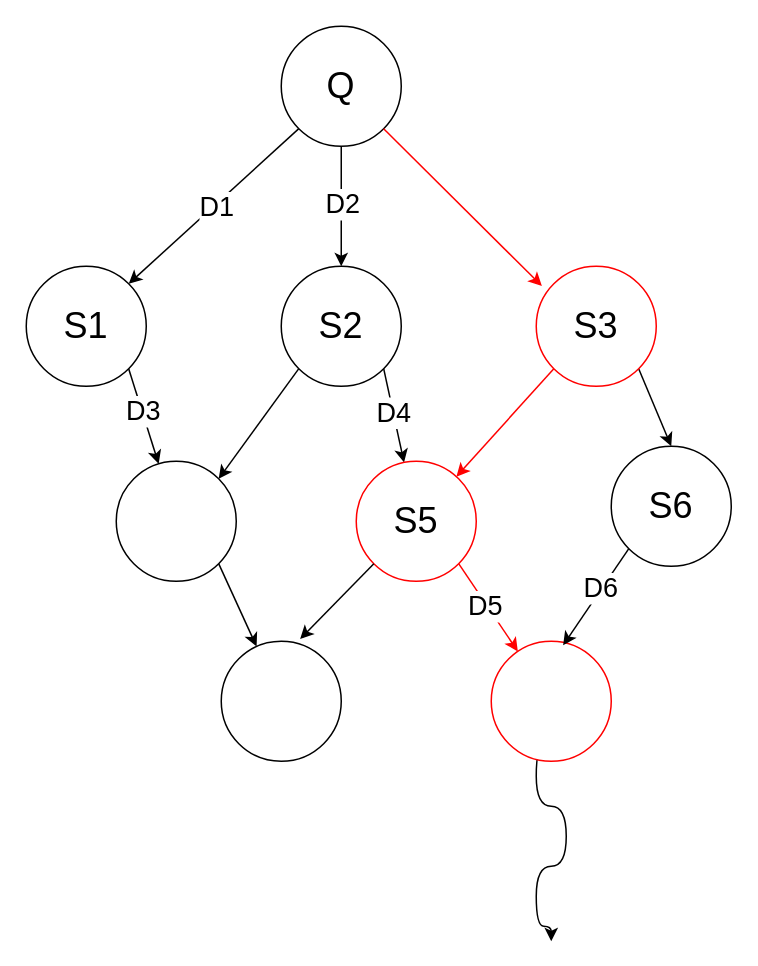
The diagram is 758 pixels wide and 966 high, and some of its shapes have lost their labels. Each missing label, with the box of its shape:
S4: (115, 460, 236, 581)
S7: (220, 640, 341, 761)
S8: (490, 640, 611, 761)
